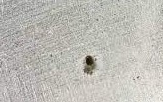Spalling: (83, 55, 96, 75)
